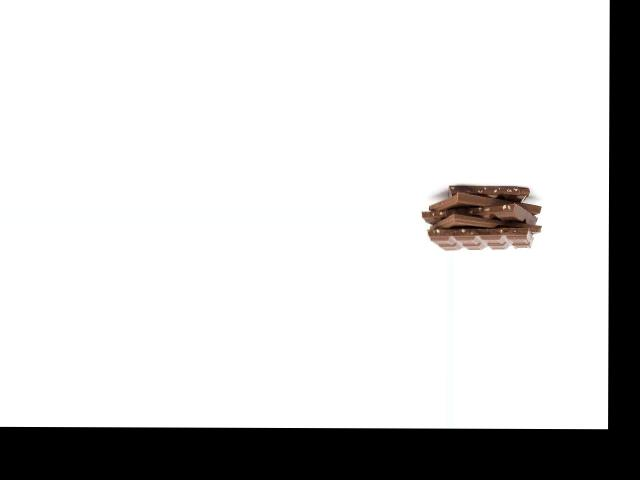chocolate: (429, 179, 539, 223)
